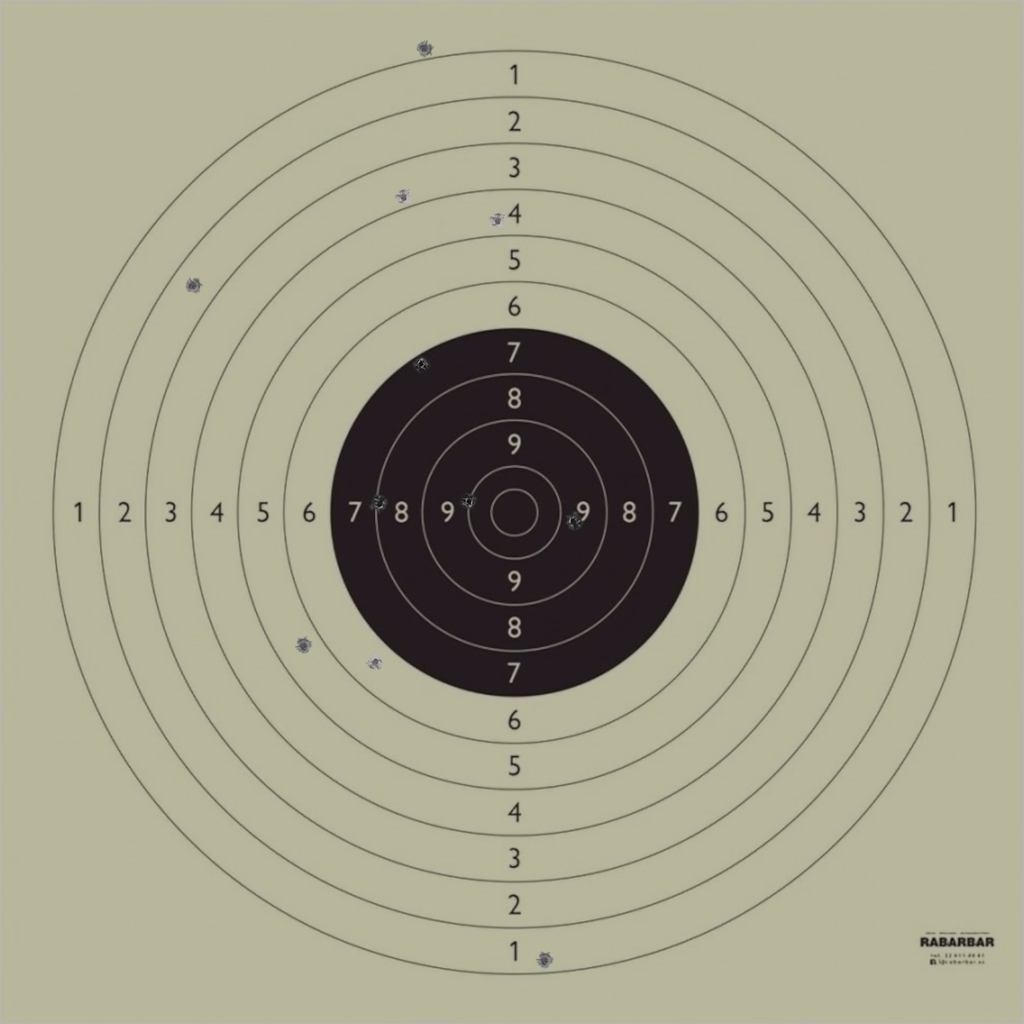0 punktow: (415, 39, 434, 58)
1 punkt: (535, 951, 554, 970)
10 punktow: (460, 493, 478, 511)
2 punkty: (184, 276, 202, 295)
3 punkty: (394, 188, 413, 207)
4 punkty: (488, 212, 507, 230)
5 punktow: (295, 637, 313, 655)
6 punktow: (366, 653, 385, 672)
7 punktow: (412, 354, 430, 373)
8 punktow: (370, 495, 389, 513)
9 punktow: (564, 512, 583, 531)
